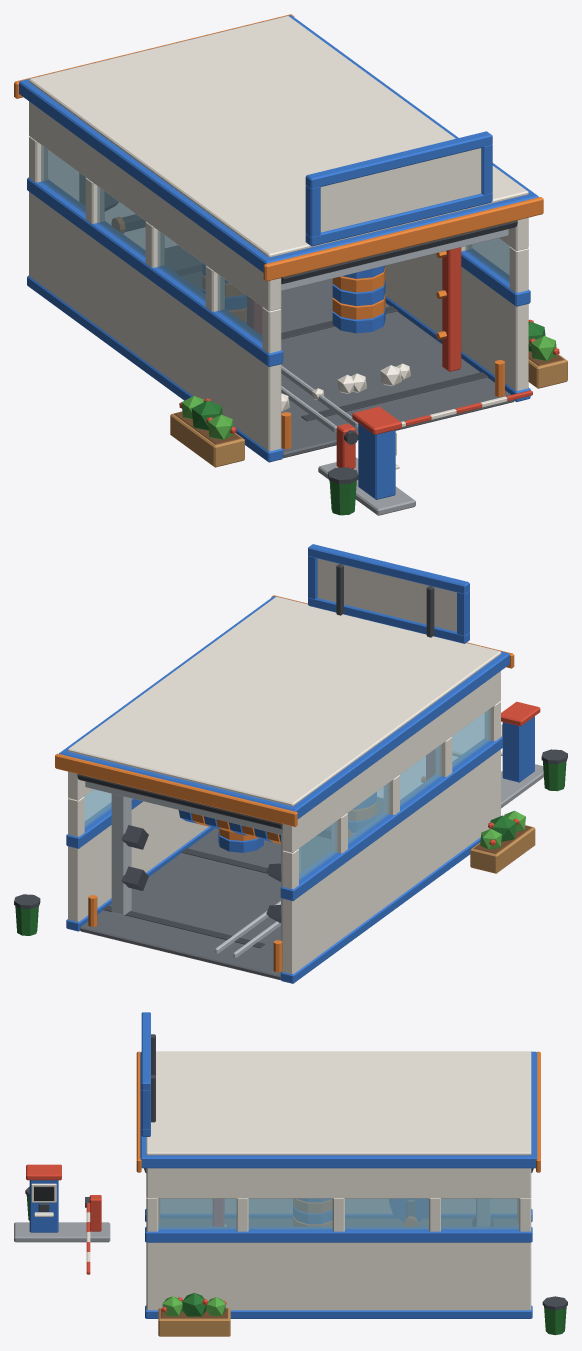
File: town-car-wash.glb
The picture shows the model from 3 angles, top to bottom: view 1: azimuth 30°, elevation 25°; view 2: azimuth 150°, elevation 25°; view 3: azimuth 270°, elevation 25°; orthographic projection. The views are drawn at different scales.
Parts seen in each view (by area): view 1: Roof_Cap, Wall_L_Low, Floor, Wall_R_Low, Wall_L_Top, Sign_Panel, Roof, Wall_L_Glass, Wall_L_Stripe, Fascia_0, Sign_FrameTop, Kiosk_Body (+27 smaller); view 2: Roof_Cap, Wall_L_Low, Floor, Wall_L_Top, Wall_R_Low, Roof, Wall_L_Glass, Sign_Panel, Wall_L_Stripe, Fascia_1, Sign_FrameTop, DryerArch_Post1 (+20 smaller); view 3: Roof_Cap, Wall_R_Low, Wall_R_Top, Wall_R_Glass, Roof, Wall_R_Stripe, Wall_L_Low, Wall_R_Base, Floor, Kiosk_Island, Planter_R_Box, Wall_L_Base (+15 smaller).
Part boxes in pixels (x1=…): Roof_Cap: x1=29, y1=16, x2=528, y2=257; Wall_L_Low: x1=29, y1=192, x2=281, y2=451; Floor: x1=165, y1=245, x2=514, y2=458; Wall_R_Low: x1=385, y1=253, x2=528, y2=390; Wall_L_Top: x1=29, y1=101, x2=281, y2=311; Sign_Panel: x1=320, y1=148, x2=481, y2=232; Roof: x1=19, y1=15, x2=538, y2=272; Wall_L_Glass: x1=41, y1=145, x2=262, y2=342; Wall_L_Stripe: x1=27, y1=177, x2=283, y2=366; Fascia_0: x1=263, y1=197, x2=543, y2=281; Sign_FrameTop: x1=305, y1=131, x2=492, y2=188; Kiosk_Body: x1=358, y1=423, x2=395, y2=499; Roof_Cap: x1=68, y1=596, x2=501, y2=806; Wall_L_Low: x1=282, y1=749, x2=500, y2=974; Floor: x1=80, y1=797, x2=383, y2=980; Wall_L_Top: x1=282, y1=671, x2=500, y2=852; Wall_R_Low: x1=68, y1=801, x2=208, y2=921; Roof: x1=59, y1=596, x2=509, y2=819; Wall_L_Glass: x1=299, y1=708, x2=490, y2=880; Sign_Panel: x1=317, y1=558, x2=456, y2=631; Wall_L_Stripe: x1=280, y1=736, x2=502, y2=900; Fascia_1: x1=55, y1=753, x2=297, y2=826; Sign_FrameTop: x1=308, y1=544, x2=469, y2=593; DryerArch_Post1: x1=111, y1=794, x2=131, y2=915; Roof_Cap: x1=146, y1=1051, x2=531, y2=1155; Wall_R_Low: x1=146, y1=1242, x2=531, y2=1310; Wall_R_Top: x1=146, y1=1168, x2=531, y2=1198; Wall_R_Glass: x1=158, y1=1198, x2=519, y2=1229; Roof: x1=140, y1=1051, x2=537, y2=1168; Wall_R_Stripe: x1=145, y1=1227, x2=532, y2=1242; Wall_L_Low: x1=160, y1=1199, x2=516, y2=1213; Wall_R_Base: x1=145, y1=1305, x2=532, y2=1318; Floor: x1=158, y1=1219, x2=518, y2=1226; Kiosk_Island: x1=14, y1=1222, x2=110, y2=1242; Planter_R_Box: x1=158, y1=1308, x2=230, y2=1336; Wall_L_Base: x1=145, y1=1209, x2=532, y2=1221.
Size of the model in its own units: 27.2 by 20.25 by 46.05.
